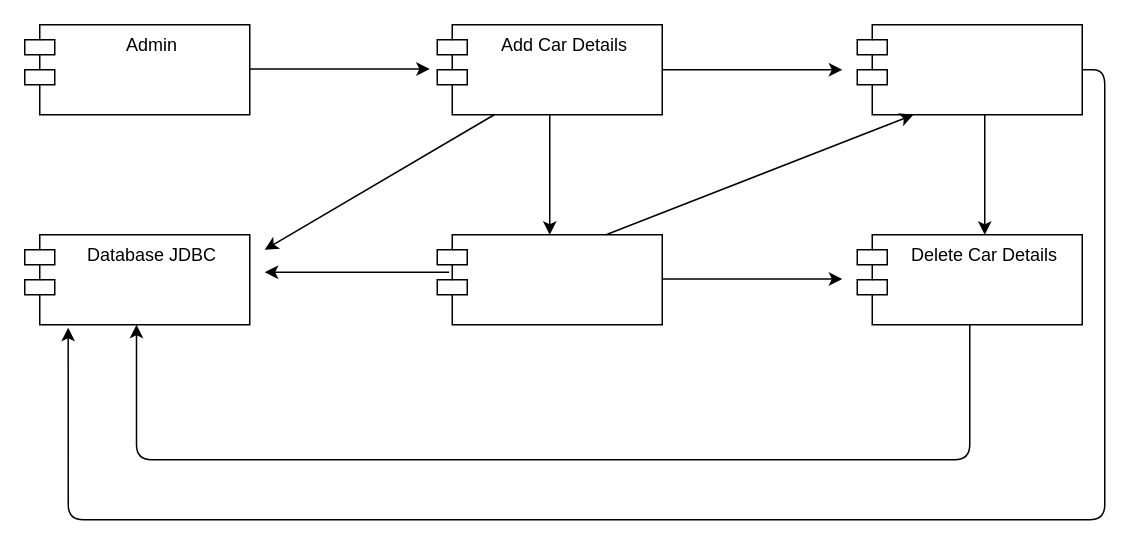
This 1130x545 diagram has some shape labels left out. Each missing label, with the centre of its shape:
"Show Car Details" goes at [969,69].
"Update Car Details" goes at [549,279].
